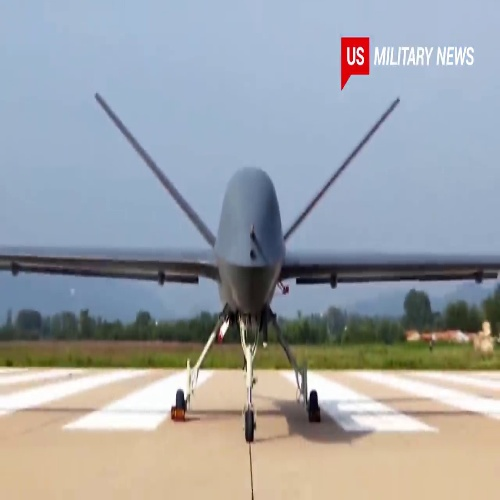uav: (4, 91, 500, 438)
